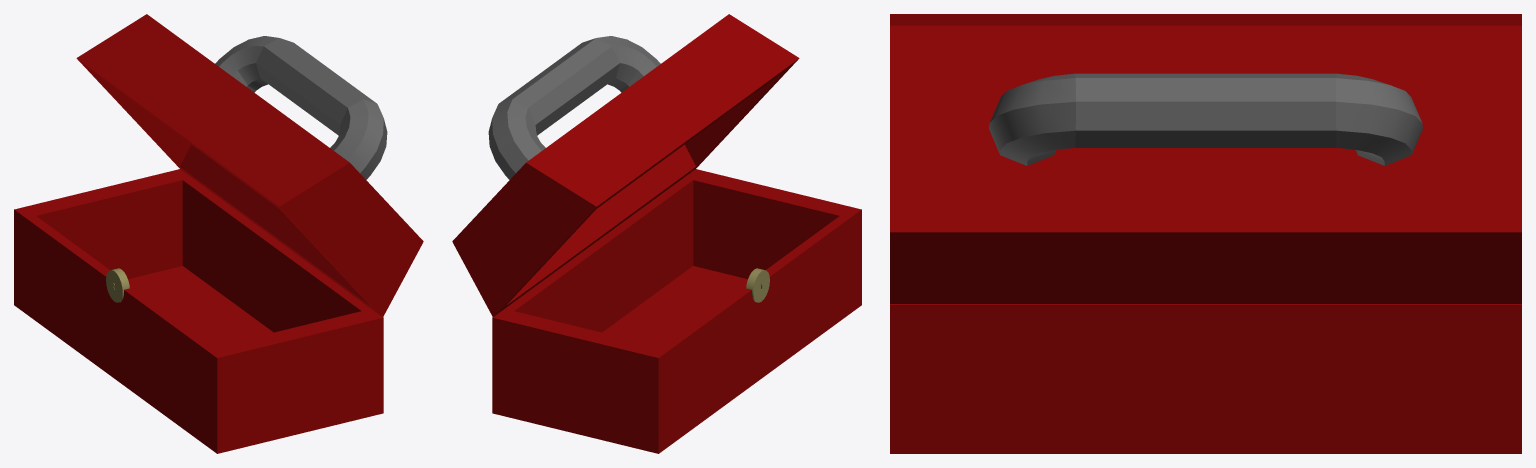
The model's file is Toolbox Open.fbx.
The picture shows the model from 3 angles, left to right: view 1: azimuth 30°, elevation 25°; view 2: azimuth 150°, elevation 25°; view 3: azimuth 270°, elevation 25°; orthographic projection. The views are drawn at different scales.
Visible parts, largest first — view 1: pCube1, pCylinder1, pCylinder2; view 2: pCube1, pCylinder1, pCylinder2; view 3: pCylinder1, pCube1.
Part boxes in pixels (<box>): pCube1: <box>14,169,383,453</box>; pCylinder1: <box>76,14,423,316</box>; pCylinder2: <box>106,268,129,302</box>; pCube1: <box>492,169,861,453</box>; pCylinder1: <box>452,14,799,316</box>; pCylinder2: <box>746,268,769,302</box>; pCylinder1: <box>890,14,1521,303</box>; pCube1: <box>890,304,1521,453</box>.
Size of the model in its own units: 3.1 by 3.43 by 4.84.
